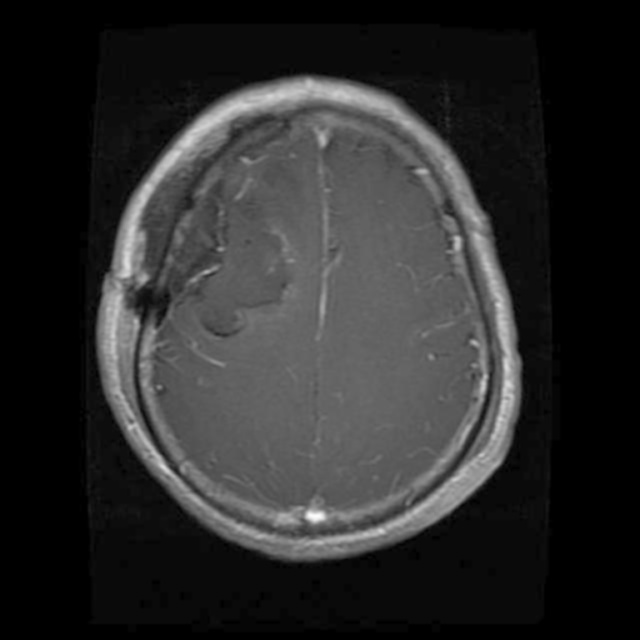pituitary tumor: (155, 192, 281, 334)
